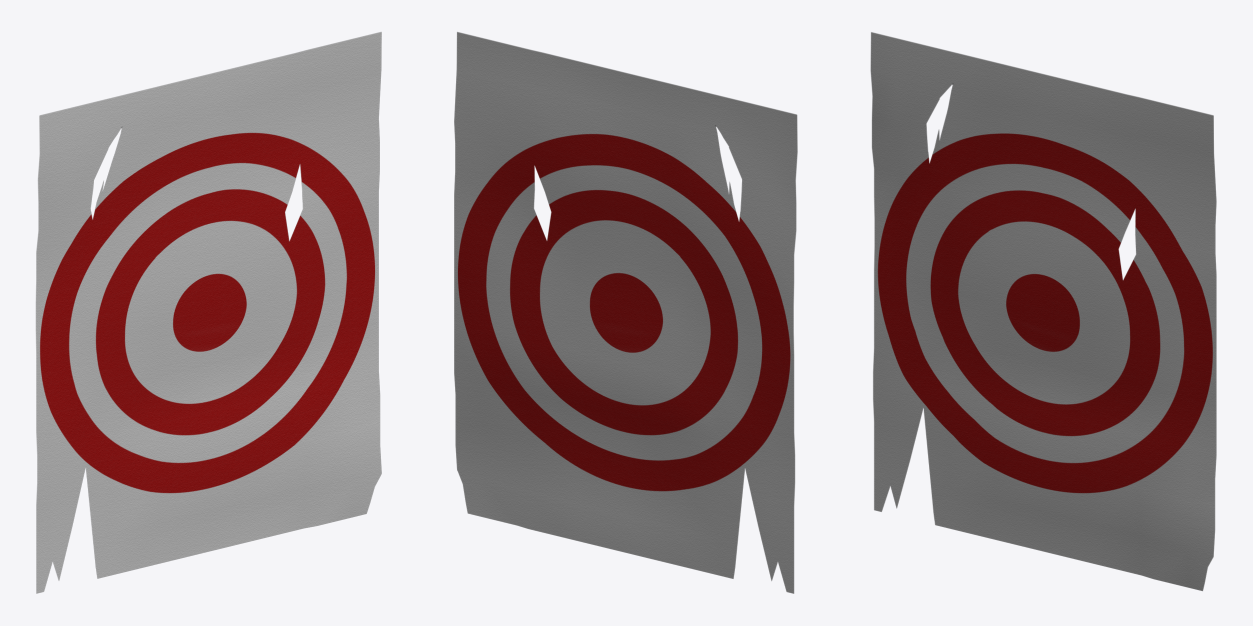
Rendered from poster_target.glb.
3 renders of one model, left to right at view 1: azimuth 30°, elevation 25°; view 2: azimuth 150°, elevation 25°; view 3: azimuth 330°, elevation 25°, orthographic.
Parts seen in each view (by area): view 1: Object_2; view 2: Object_2; view 3: Object_2.
Boxes of the visible parts, x1=… form: Object_2: x1=36, y1=32, x2=381, y2=593; Object_2: x1=454, y1=32, x2=797, y2=593; Object_2: x1=870, y1=32, x2=1216, y2=590.
Size of the model in its own units: 0.8 by 0.9997 by 0.0208.
Materials: 1 (1 with a texture image).
